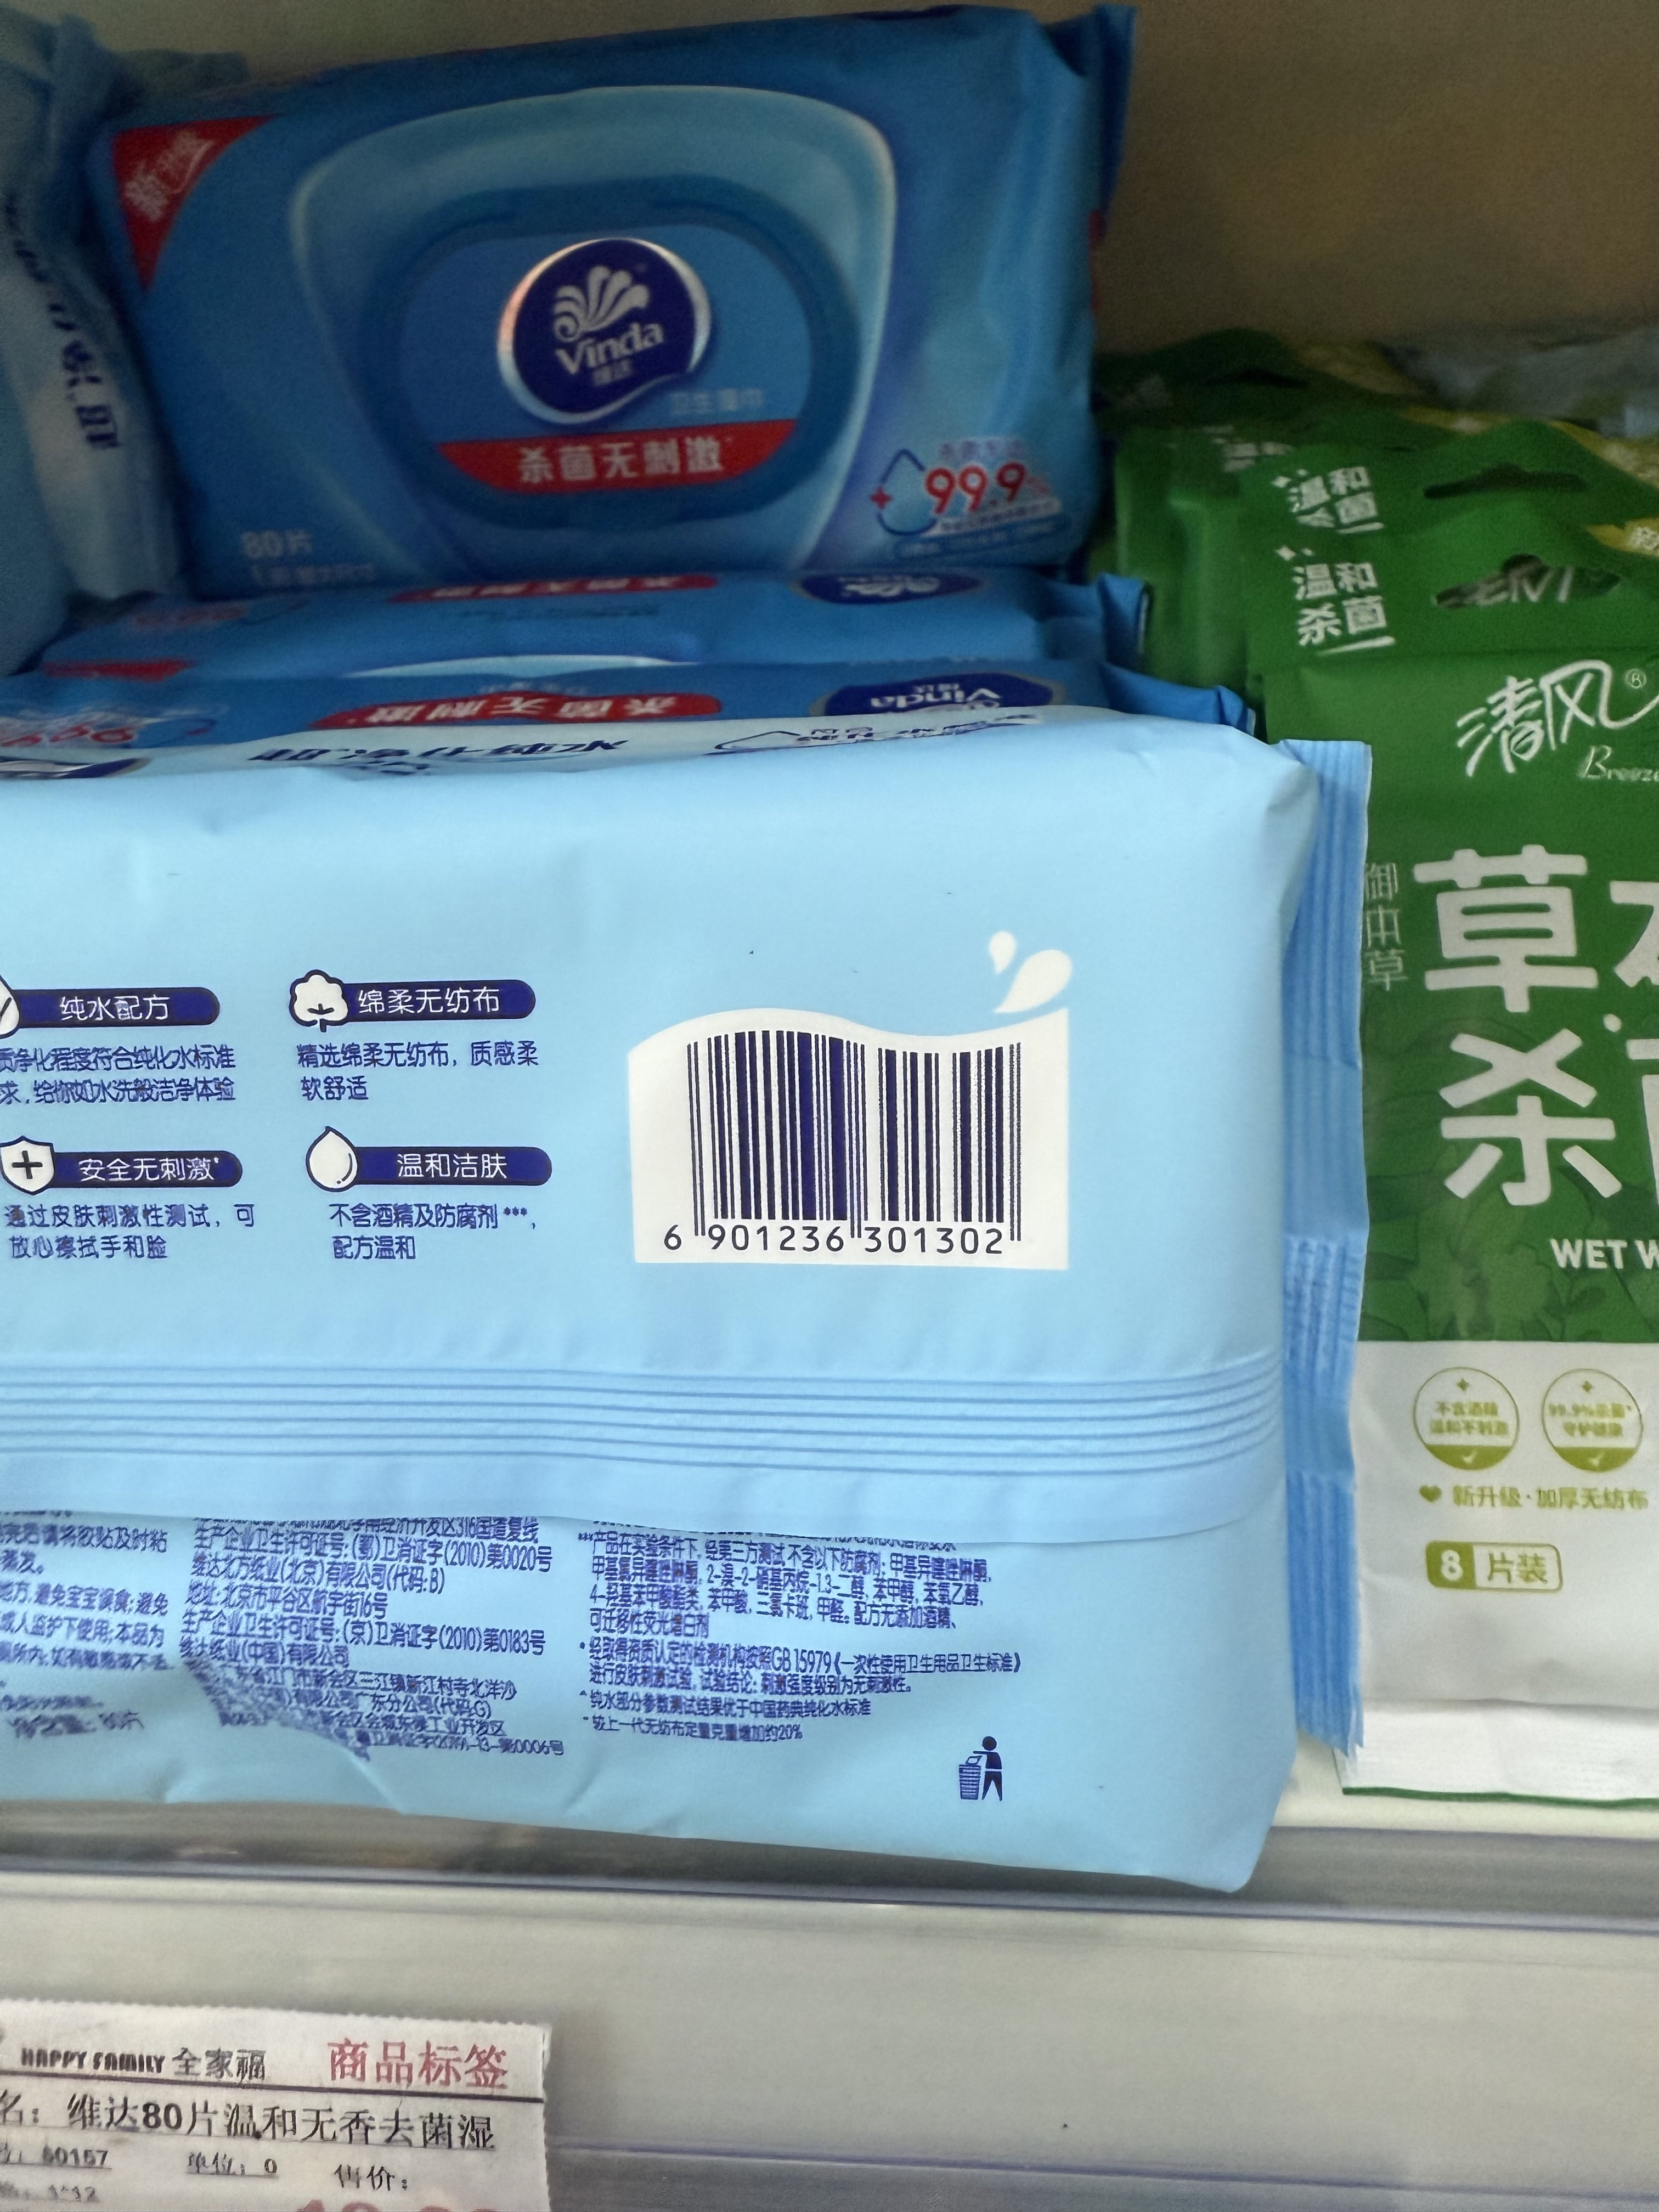bar: (674, 1021, 1028, 1249)
